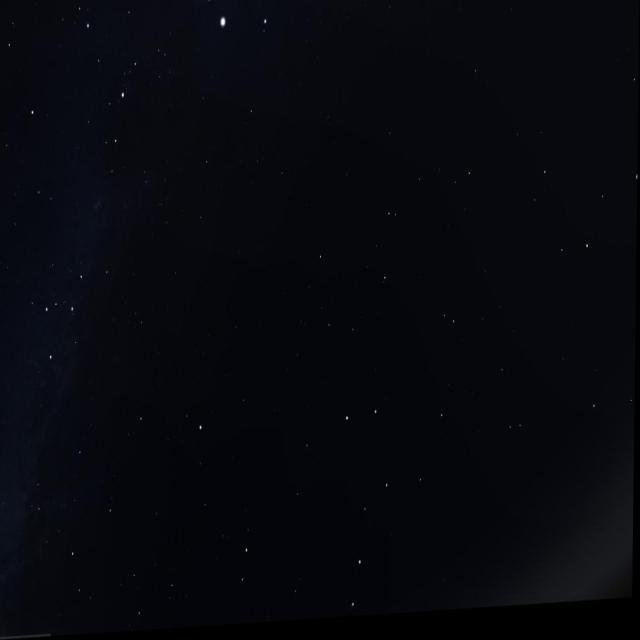ursa_major: (331, 389, 416, 622)
